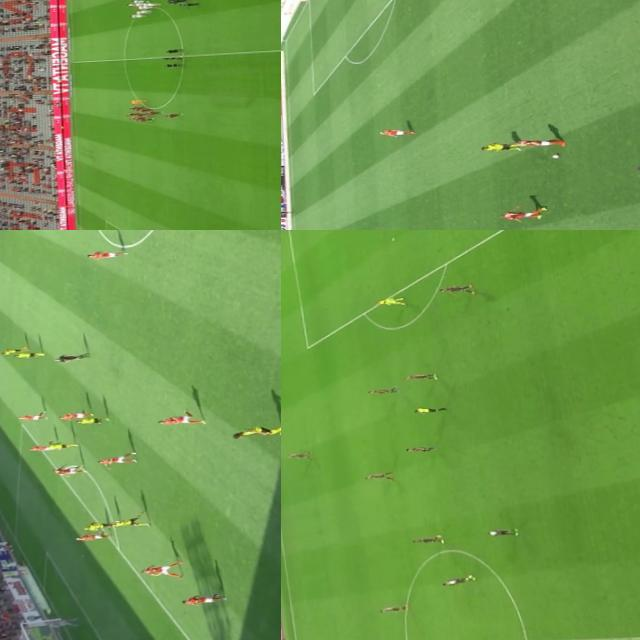ball: (546, 152, 562, 160), (275, 431, 281, 438), (464, 576, 474, 580), (178, 56, 183, 58)
player: (226, 421, 281, 440), (499, 208, 542, 222), (156, 414, 202, 427), (138, 564, 180, 577), (515, 138, 563, 149), (72, 532, 116, 544), (94, 454, 140, 464), (82, 250, 128, 260), (477, 142, 521, 152), (109, 517, 153, 527), (178, 594, 220, 604), (376, 127, 414, 138), (482, 528, 516, 540), (50, 466, 88, 476), (409, 537, 447, 547), (438, 284, 476, 294), (82, 522, 118, 532), (440, 576, 470, 588), (364, 386, 400, 396), (374, 296, 404, 308), (24, 443, 59, 453), (401, 373, 436, 383), (44, 440, 78, 450), (74, 416, 110, 425), (54, 412, 92, 420), (48, 618, 78, 628), (13, 414, 48, 422), (402, 446, 434, 454), (12, 350, 42, 358), (361, 473, 391, 481), (0, 348, 27, 356), (378, 606, 406, 613), (288, 453, 310, 460), (141, 2, 159, 8), (125, 2, 141, 8), (136, 118, 154, 123), (127, 116, 143, 121), (129, 14, 146, 18), (130, 100, 146, 104), (165, 114, 181, 118), (128, 106, 144, 110), (134, 10, 148, 14), (132, 108, 146, 112), (126, 112, 140, 116), (134, 6, 152, 9), (138, 109, 153, 112), (130, 0, 144, 3), (133, 3, 147, 6), (146, 112, 160, 115)
